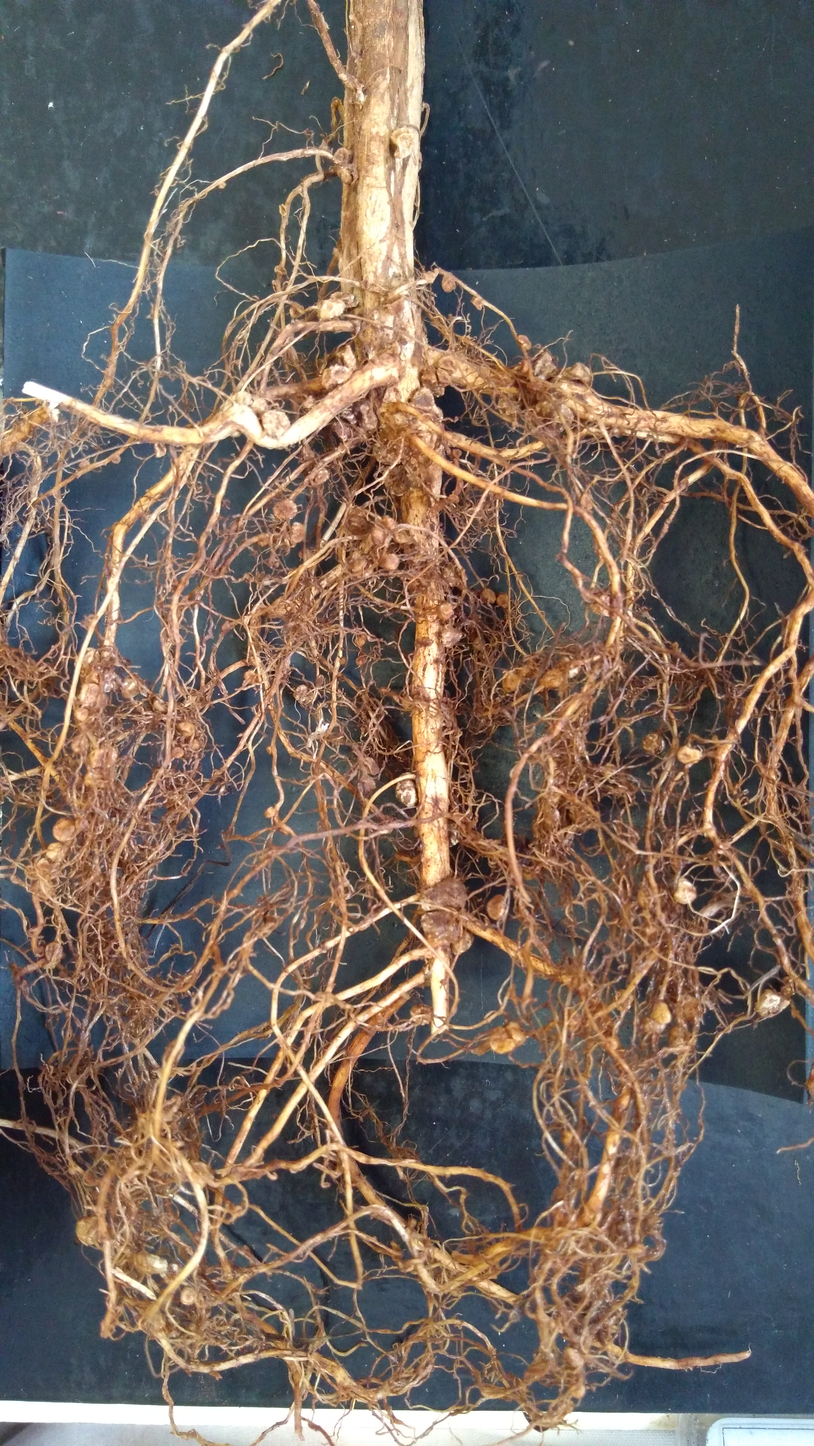nodule: (418, 875, 470, 911), (435, 351, 485, 387), (70, 1212, 108, 1259), (418, 909, 462, 947), (751, 986, 794, 1021), (560, 358, 600, 391), (129, 1245, 169, 1276), (419, 366, 449, 406), (259, 408, 295, 441), (351, 395, 380, 435), (389, 126, 420, 163), (319, 363, 356, 393), (394, 769, 420, 811), (369, 439, 404, 468), (532, 347, 560, 383), (381, 513, 410, 546), (382, 466, 410, 499), (487, 1025, 516, 1055), (410, 385, 438, 416), (449, 924, 477, 954), (673, 876, 699, 908), (218, 391, 255, 413), (316, 298, 349, 322), (49, 815, 77, 842), (76, 681, 105, 707), (640, 731, 667, 758), (608, 988, 636, 1014), (439, 623, 467, 649), (345, 504, 368, 535), (675, 742, 702, 768), (119, 676, 145, 703), (271, 498, 300, 522), (329, 416, 353, 445), (484, 892, 508, 921), (581, 1191, 601, 1225), (649, 1000, 675, 1026), (284, 520, 308, 547), (375, 552, 405, 573), (407, 1001, 432, 1026), (441, 560, 462, 589), (506, 1021, 529, 1047), (306, 467, 333, 489), (339, 343, 359, 372), (292, 683, 314, 709), (551, 400, 573, 426), (77, 646, 102, 668), (540, 666, 565, 688), (41, 941, 67, 962), (381, 383, 407, 404), (326, 287, 358, 304), (250, 394, 271, 419), (517, 657, 539, 680), (640, 1017, 667, 1035), (331, 145, 353, 167), (561, 1346, 584, 1367), (175, 1282, 195, 1306), (564, 1006, 582, 1032), (175, 719, 198, 739), (44, 841, 66, 861), (501, 667, 518, 691), (440, 273, 459, 294), (369, 527, 387, 549), (350, 556, 369, 575), (516, 332, 534, 352), (242, 668, 262, 686), (437, 601, 455, 621), (479, 587, 497, 606), (496, 591, 512, 612), (399, 341, 415, 362), (335, 165, 352, 184), (601, 1034, 618, 1053), (470, 634, 485, 655), (33, 856, 51, 873), (569, 1380, 585, 1399), (468, 296, 487, 311), (71, 707, 91, 721), (262, 804, 278, 821), (353, 654, 370, 669), (170, 744, 187, 759), (579, 492, 593, 510), (354, 634, 370, 649), (312, 672, 327, 688), (517, 358, 531, 374), (449, 446, 463, 462), (376, 684, 393, 696), (561, 1130, 574, 1145), (552, 1184, 565, 1199), (406, 1216, 419, 1230), (446, 493, 462, 504), (265, 743, 275, 756), (339, 657, 347, 665)
